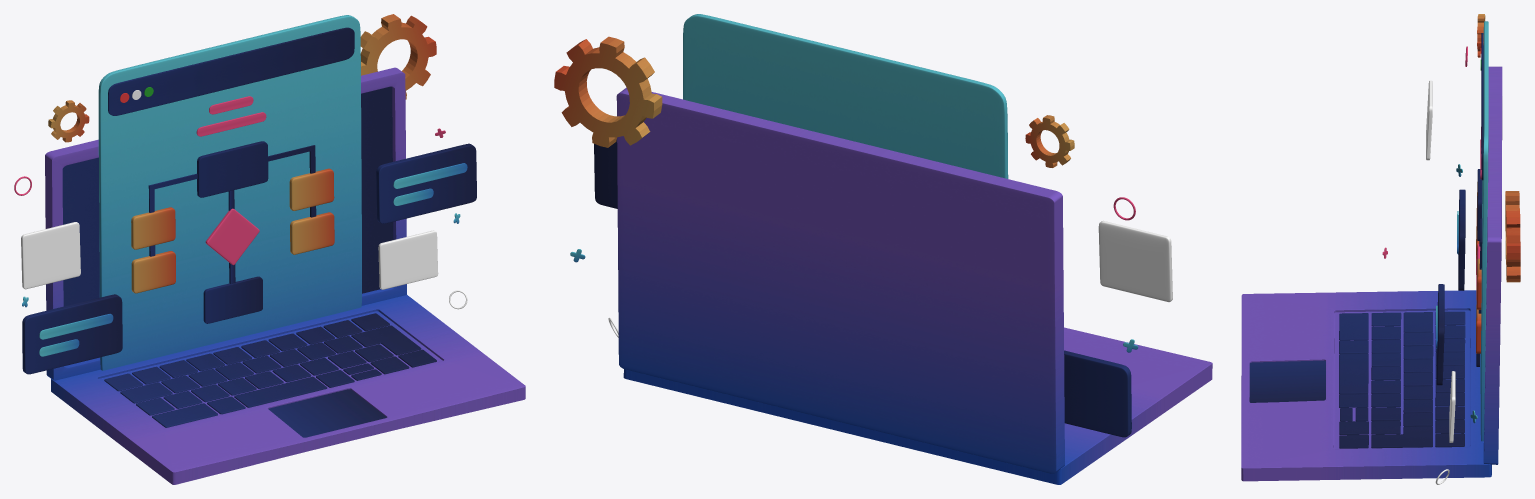
File: algorithm-3d-animated-icon-85276542945.glb
3 renders of one model, left to right at view 1: azimuth 30°, elevation 25°; view 2: azimuth 150°, elevation 25°; view 3: azimuth 270°, elevation 25°, orthographic. The views are drawn at different scales.
Visible parts, largest first — view 1: Paper, Cube.005, Cube.017, Cube.015, Paper.001, Cube.009, Frame 2, Frame 1, Paper.006, Cube.020, Cube.016, Gear (+11 smaller); view 2: Cube.009, Paper, Cube.005, Gear, Frame 1, Cube.020, Gear.001, Frame 2; view 3: Cube.005, Cube.017, Cube.009, Cube.016, Paper, Gear, Frame 2, Frame 1, Paper.006, Cube.020, Paper.001, Cube.019.
Boxes of the visible parts, bbox=[...] form: Paper: bbox=[98, 15, 361, 370]; Cube.005: bbox=[51, 295, 525, 484]; Cube.017: bbox=[104, 313, 436, 427]; Cube.015: bbox=[62, 86, 393, 363]; Paper.001: bbox=[108, 27, 354, 115]; Cube.009: bbox=[45, 67, 406, 380]; Frame 2: bbox=[376, 143, 476, 223]; Frame 1: bbox=[22, 294, 122, 374]; Paper.006: bbox=[148, 141, 316, 256]; Cube.020: bbox=[21, 222, 80, 289]; Cube.016: bbox=[268, 389, 386, 437]; Gear: bbox=[360, 14, 436, 99]; Cube.009: bbox=[616, 87, 1064, 473]; Paper: bbox=[683, 14, 1008, 178]; Cube.005: bbox=[623, 327, 1212, 484]; Gear: bbox=[554, 36, 662, 147]; Frame 1: bbox=[1064, 350, 1131, 437]; Cube.020: bbox=[1098, 220, 1172, 302]; Gear.001: bbox=[1025, 115, 1074, 167]; Frame 2: bbox=[594, 139, 617, 208]; Cube.005: bbox=[1241, 290, 1491, 481]; Cube.017: bbox=[1339, 311, 1465, 448]; Cube.009: bbox=[1483, 66, 1502, 464]; Cube.016: bbox=[1249, 360, 1325, 402]; Paper: bbox=[1480, 21, 1488, 441]; Gear: bbox=[1505, 191, 1520, 282]; Frame 2: bbox=[1436, 284, 1444, 385]; Frame 1: bbox=[1458, 189, 1465, 290]; Paper.006: bbox=[1477, 169, 1482, 313]; Cube.020: bbox=[1426, 80, 1432, 160]; Paper.001: bbox=[1481, 33, 1483, 180]; Cube.019: bbox=[1449, 371, 1455, 442].
Bounding box in the file's own units: 6.99 × 4.49 × 3.62.
13 materials, 6 textured.
